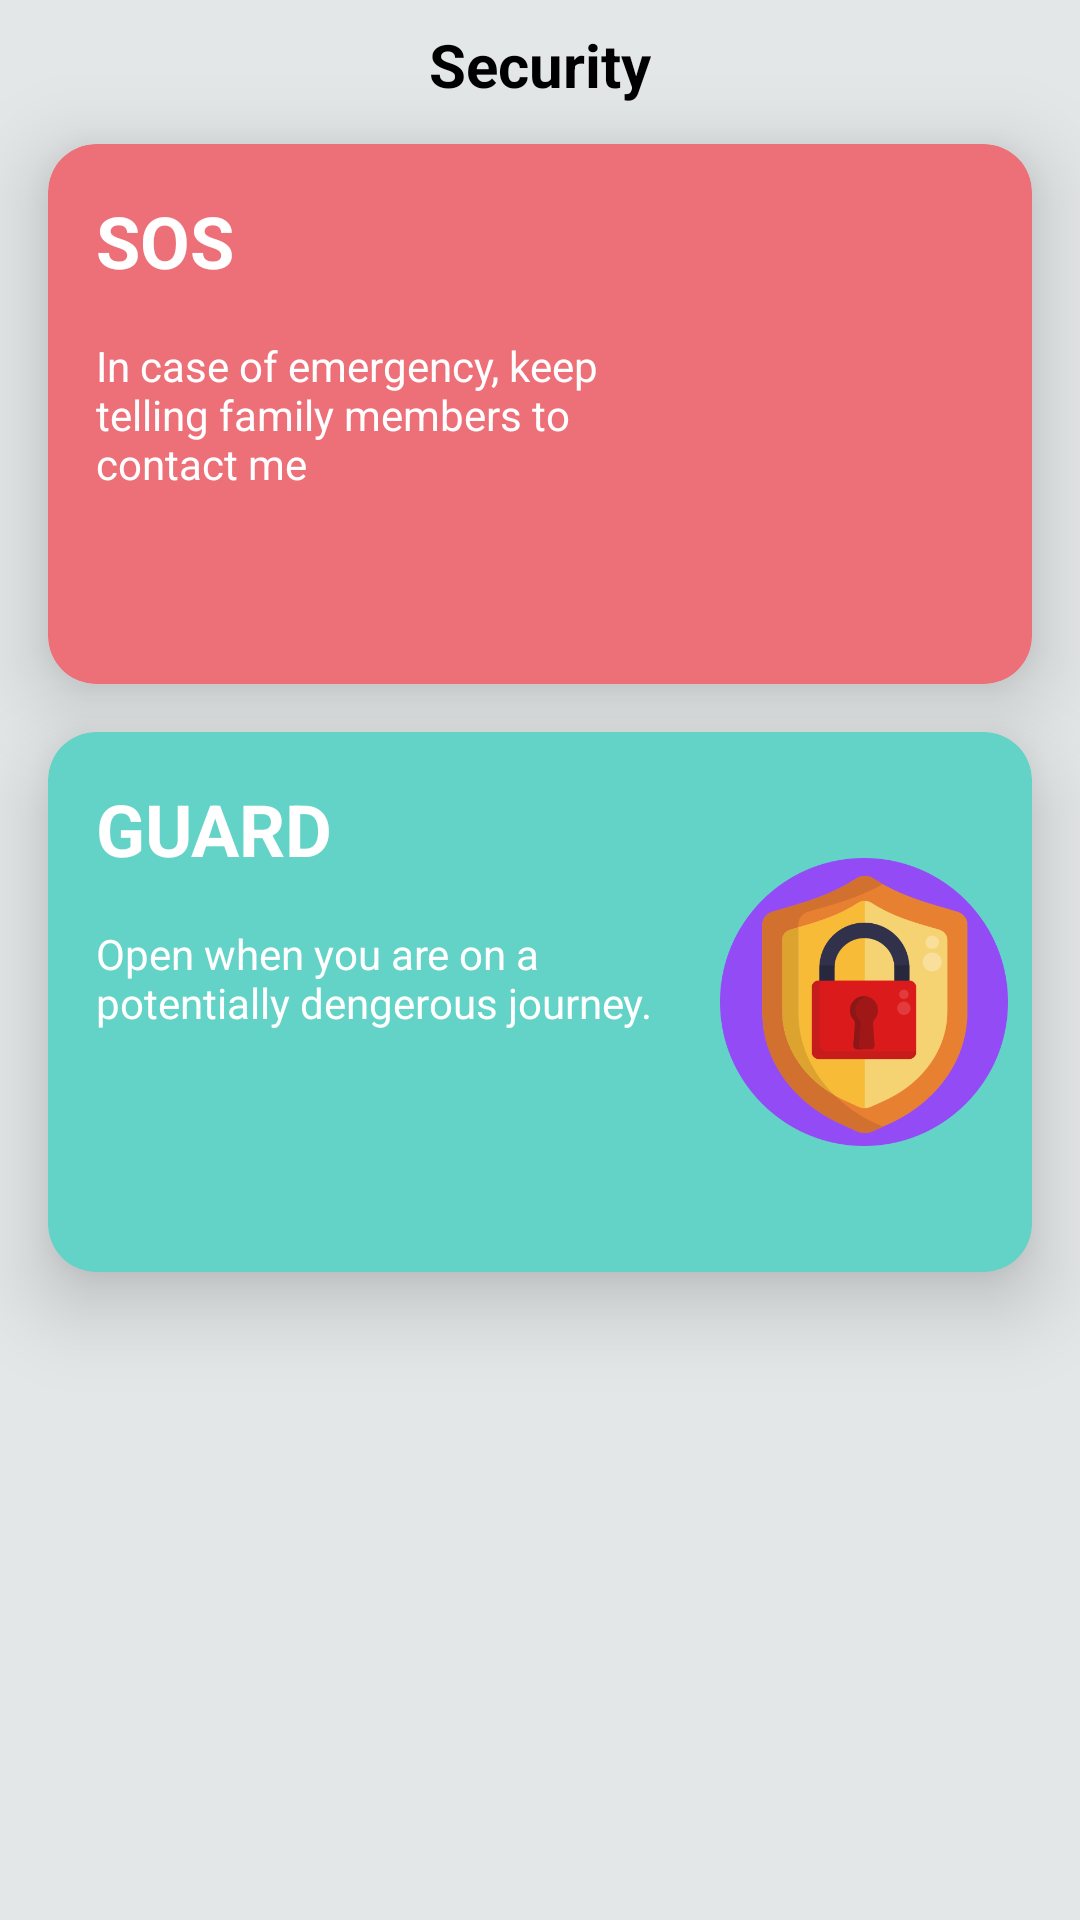

Icons on this 1080×1920 Android screen, each with the point to tap as (x,y):
protect: (864,1002)
